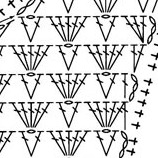enseble_chain: (22, 97, 60, 134), (23, 40, 59, 76), (98, 40, 133, 75), (4, 95, 35, 133), (81, 37, 112, 74), (82, 96, 111, 133), (63, 127, 97, 158), (44, 126, 74, 158), (58, 43, 88, 75), (58, 100, 86, 131), (24, 129, 52, 158), (100, 14, 125, 46), (110, 128, 137, 157), (128, 12, 151, 46), (24, 15, 50, 45), (100, 72, 125, 103), (25, 72, 50, 103), (49, 70, 73, 102), (49, 13, 72, 45), (103, 129, 127, 157), (126, 44, 146, 73), (63, 15, 81, 43), (64, 73, 82, 101), (123, 72, 141, 99), (103, 102, 120, 127)
